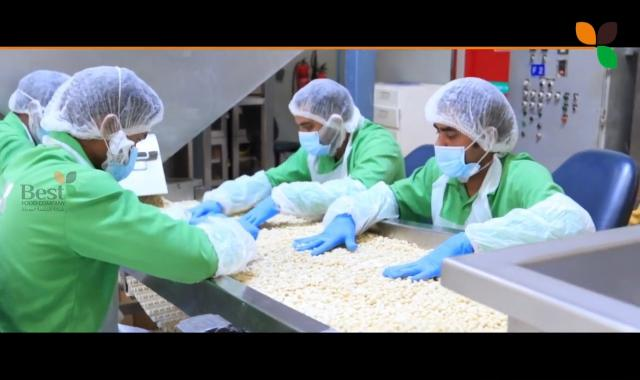hairnet: (46, 70, 160, 146), (425, 76, 519, 149), (290, 77, 361, 135), (7, 68, 72, 109)
